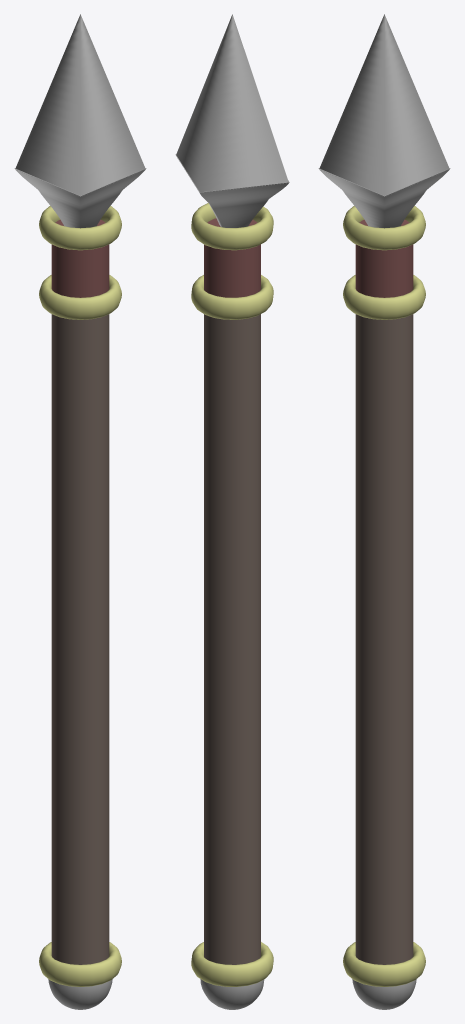
File: Weapon.fbx
3 views of the same model, side by side, from view 1: azimuth 90°, elevation 25°; view 2: azimuth 150°, elevation 25°; view 3: azimuth 270°, elevation 25° (orthographic).
Visible parts, largest first — view 1: pCylinder4, pCone1, pCylinder5, pCone2, pTorus4, pTorus2, pTorus3, pSphere1; view 2: pCylinder4, pCone1, pCylinder5, pTorus4, pCone2, pTorus2, pTorus3, pSphere1; view 3: pCylinder4, pCone1, pCylinder5, pCone2, pTorus4, pTorus2, pTorus3, pSphere1.
Boxes of the visible parts, bbox=[...] form: pCylinder4: bbox=[51, 314, 109, 964]; pCone1: bbox=[15, 14, 145, 196]; pCylinder5: bbox=[51, 219, 109, 297]; pCone2: bbox=[14, 168, 146, 228]; pTorus4: bbox=[39, 206, 121, 250]; pTorus2: bbox=[39, 275, 121, 319]; pTorus3: bbox=[39, 942, 121, 986]; pSphere1: bbox=[48, 979, 112, 1009]; pCylinder4: bbox=[204, 314, 260, 964]; pCone1: bbox=[176, 14, 288, 192]; pCylinder5: bbox=[204, 218, 260, 297]; pTorus4: bbox=[191, 203, 273, 250]; pCone2: bbox=[175, 154, 289, 227]; pTorus2: bbox=[191, 275, 273, 319]; pTorus3: bbox=[191, 942, 273, 986]; pSphere1: bbox=[200, 979, 264, 1009]; pCylinder4: bbox=[355, 314, 413, 964]; pCone1: bbox=[319, 14, 449, 196]; pCylinder5: bbox=[355, 219, 413, 297]; pCone2: bbox=[318, 168, 450, 228]; pTorus4: bbox=[343, 206, 425, 250]; pTorus2: bbox=[343, 275, 425, 319]; pTorus3: bbox=[343, 942, 425, 986]; pSphere1: bbox=[352, 979, 416, 1009].
Size of the model in its own units: 0.2241 by 1.86 by 0.2241.
